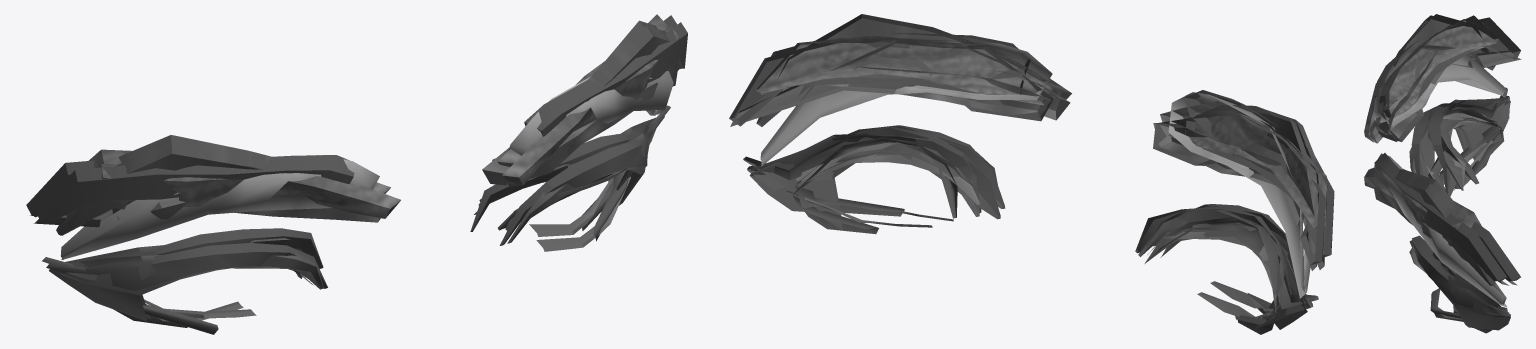
The model's file is PERSONAJES_FIN.fbx_CEJAS_PESTA_AS.fbx.
3 renders of one model, left to right at view 1: azimuth 30°, elevation 25°; view 2: azimuth 150°, elevation 25°; view 3: azimuth 270°, elevation 25°, orthographic. The views are drawn at different scales.
Parts seen in each view (by area): view 1: CJS_F_02, CJS_F_01, CJS_F_03, CJS_F_04, CJS_F_05, CJS_M_02, CJS_M_03, CJS_M_01, CJS_M_05, CJS_M_04; view 2: CJS_M_04, CJS_M_01, CJS_M_02, CJS_M_03, CJS_M_05, CJS_F_02, CJS_F_01, CJS_F_03, CJS_F_05, CJS_F_04; view 3: CJS_F_02, CJS_M_02, CJS_M_03, CJS_F_03, CJS_M_04, CJS_F_01, CJS_M_01, CJS_M_05, CJS_F_05, CJS_F_04.
Part boxes in pixels (x1,y1,x2,y2): CJS_F_02: [36, 22, 687, 291]; CJS_F_01: [61, 71, 673, 334]; CJS_F_03: [49, 26, 678, 320]; CJS_F_04: [96, 25, 679, 218]; CJS_F_05: [33, 67, 679, 318]; CJS_M_02: [26, 15, 677, 268]; CJS_M_03: [50, 20, 657, 319]; CJS_M_01: [60, 76, 655, 327]; CJS_M_05: [29, 177, 613, 321]; CJS_M_04: [88, 14, 667, 193]; CJS_M_04: [756, 35, 1318, 228]; CJS_M_01: [760, 37, 1304, 334]; CJS_M_02: [729, 38, 1325, 309]; CJS_M_03: [751, 14, 1317, 329]; CJS_M_05: [730, 66, 1316, 318]; CJS_F_02: [747, 33, 1334, 315]; CJS_F_01: [760, 36, 1310, 320]; CJS_F_03: [749, 14, 1327, 329]; CJS_F_05: [796, 70, 1324, 312]; CJS_F_04: [756, 47, 1326, 228]; CJS_F_02: [1374, 20, 1509, 315]; CJS_M_02: [1383, 17, 1520, 311]; CJS_M_03: [1378, 14, 1507, 317]; CJS_F_03: [1378, 15, 1510, 330]; CJS_M_04: [1375, 15, 1498, 227]; CJS_F_01: [1374, 43, 1505, 321]; CJS_M_01: [1373, 44, 1507, 333]; CJS_M_05: [1388, 50, 1521, 313]; CJS_F_05: [1369, 56, 1509, 319]; CJS_F_04: [1364, 19, 1491, 247].
Bounding box in the file's own units: 13.08 × 4.08 × 3.65.
